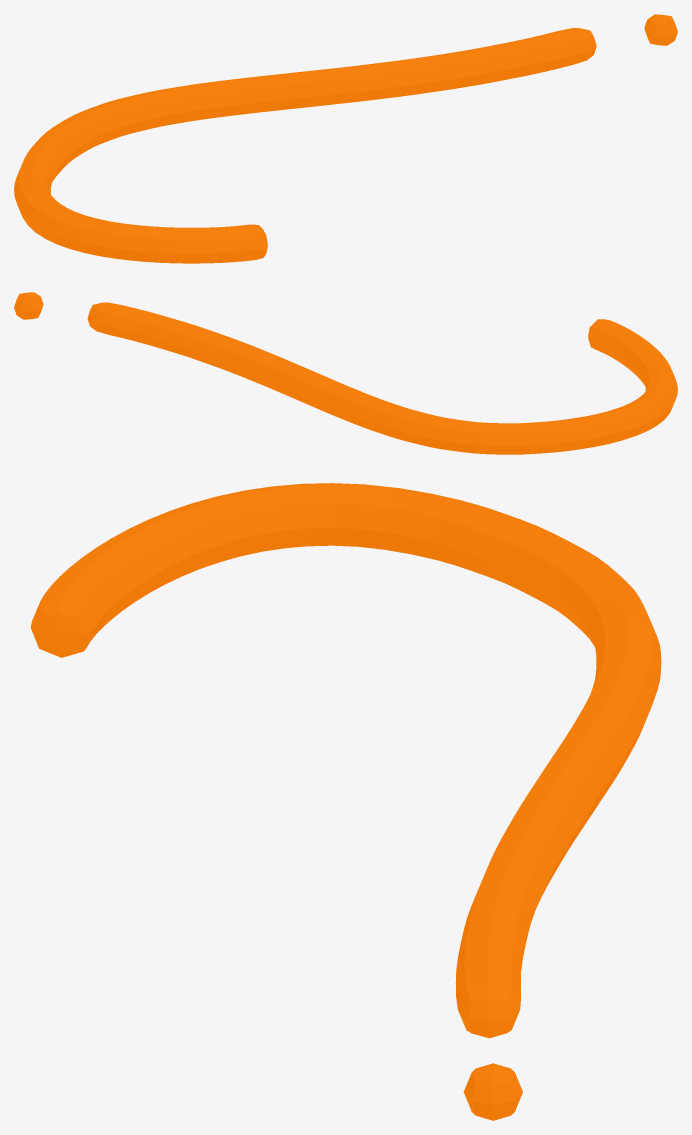
Rendered from QuestionMark.glb.
3 views of the same model, one above another, from view 1: azimuth 30°, elevation 25°; view 2: azimuth 150°, elevation 25°; view 3: azimuth 270°, elevation 25° (orthographic). The views are drawn at different scales.
Parts seen in each view (by area): view 1: QuestionMark; view 2: QuestionMark; view 3: QuestionMark.
Part boxes in pixels (x1,y1,x2,y2): QuestionMark: [14, 14, 677, 263]; QuestionMark: [14, 292, 677, 454]; QuestionMark: [30, 483, 661, 1120].
Size of the model in its own units: 1.09 by 0.0591 by 0.4904.
